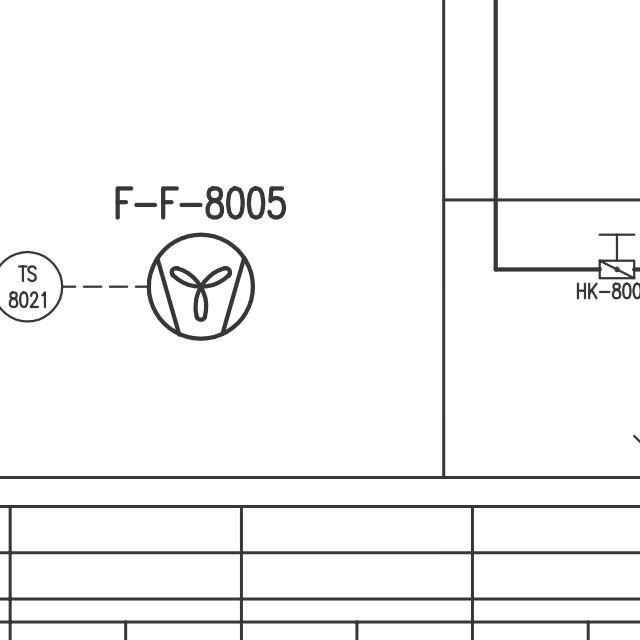BV: (595, 226, 638, 281)
F: (147, 231, 257, 345)
